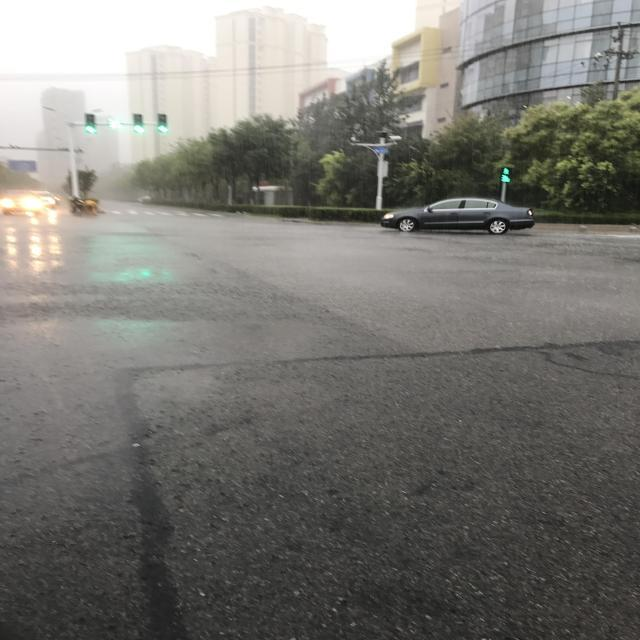car: (198, 106, 235, 260), (191, 606, 216, 640), (190, 578, 208, 604)
